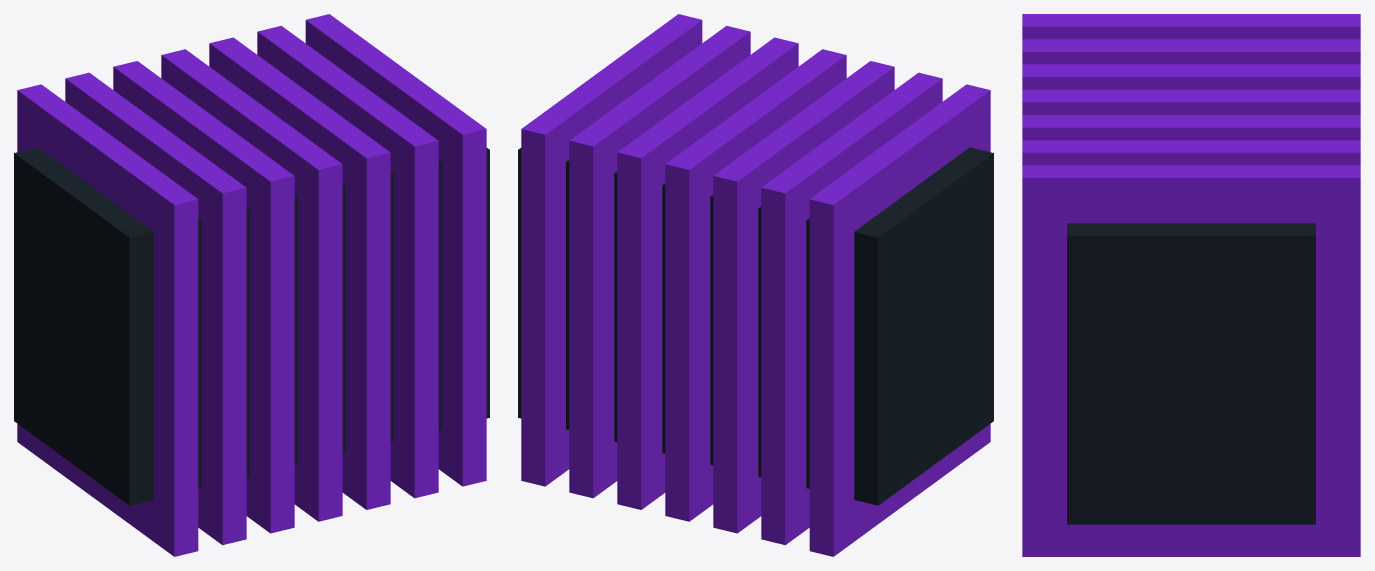
The model's file is SM_OverdriveCooling.obj.
3 views of the same model, side by side, from view 1: azimuth 30°, elevation 25°; view 2: azimuth 150°, elevation 25°; view 3: azimuth 270°, elevation 25° (orthographic). The views are drawn at different scales.
Parts seen in each view (by area): view 1: SM_OverdriveCooling; view 2: SM_OverdriveCooling; view 3: SM_OverdriveCooling.
Boxes of the visible parts, x1=… form: SM_OverdriveCooling: x1=14, y1=14, x2=489, y2=556; SM_OverdriveCooling: x1=518, y1=14, x2=993, y2=556; SM_OverdriveCooling: x1=1022, y1=14, x2=1360, y2=556.
Bounding box in the file's own units: 45 × 42 × 34.
